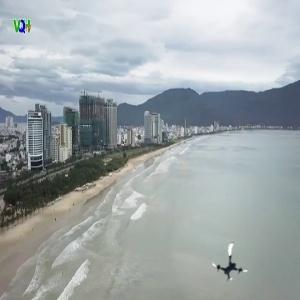drone: (212, 243, 253, 284)
